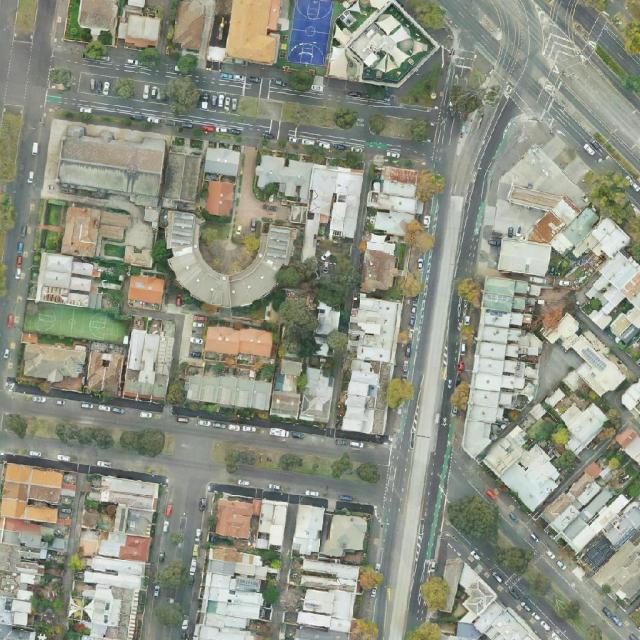building: (454, 142, 632, 321), (32, 118, 205, 274), (460, 274, 552, 464), (64, 472, 161, 640), (194, 483, 290, 640), (155, 209, 294, 316), (243, 153, 366, 266), (531, 309, 632, 411), (334, 295, 403, 435), (183, 323, 277, 411), (479, 422, 569, 512), (26, 246, 126, 326), (362, 165, 420, 294), (549, 393, 612, 456), (225, 0, 280, 65), (198, 141, 244, 218), (270, 356, 307, 421), (298, 366, 338, 425), (125, 272, 165, 312), (313, 302, 341, 357), (618, 379, 640, 412)
greenland: (440, 483, 546, 578), (0, 411, 176, 458), (210, 440, 382, 488), (518, 562, 612, 640), (250, 249, 360, 314), (576, 157, 640, 263), (526, 409, 579, 462), (34, 550, 65, 640), (278, 297, 319, 349), (151, 557, 196, 599), (414, 573, 457, 615), (378, 372, 419, 410), (609, 458, 640, 502), (394, 271, 426, 302), (411, 228, 439, 256), (155, 602, 184, 628), (359, 566, 384, 590), (554, 452, 578, 472)
metalled_road: (40, 41, 443, 164), (0, 380, 392, 486), (532, 25, 640, 163), (15, 317, 174, 407), (4, 376, 165, 422), (446, 450, 495, 504)
